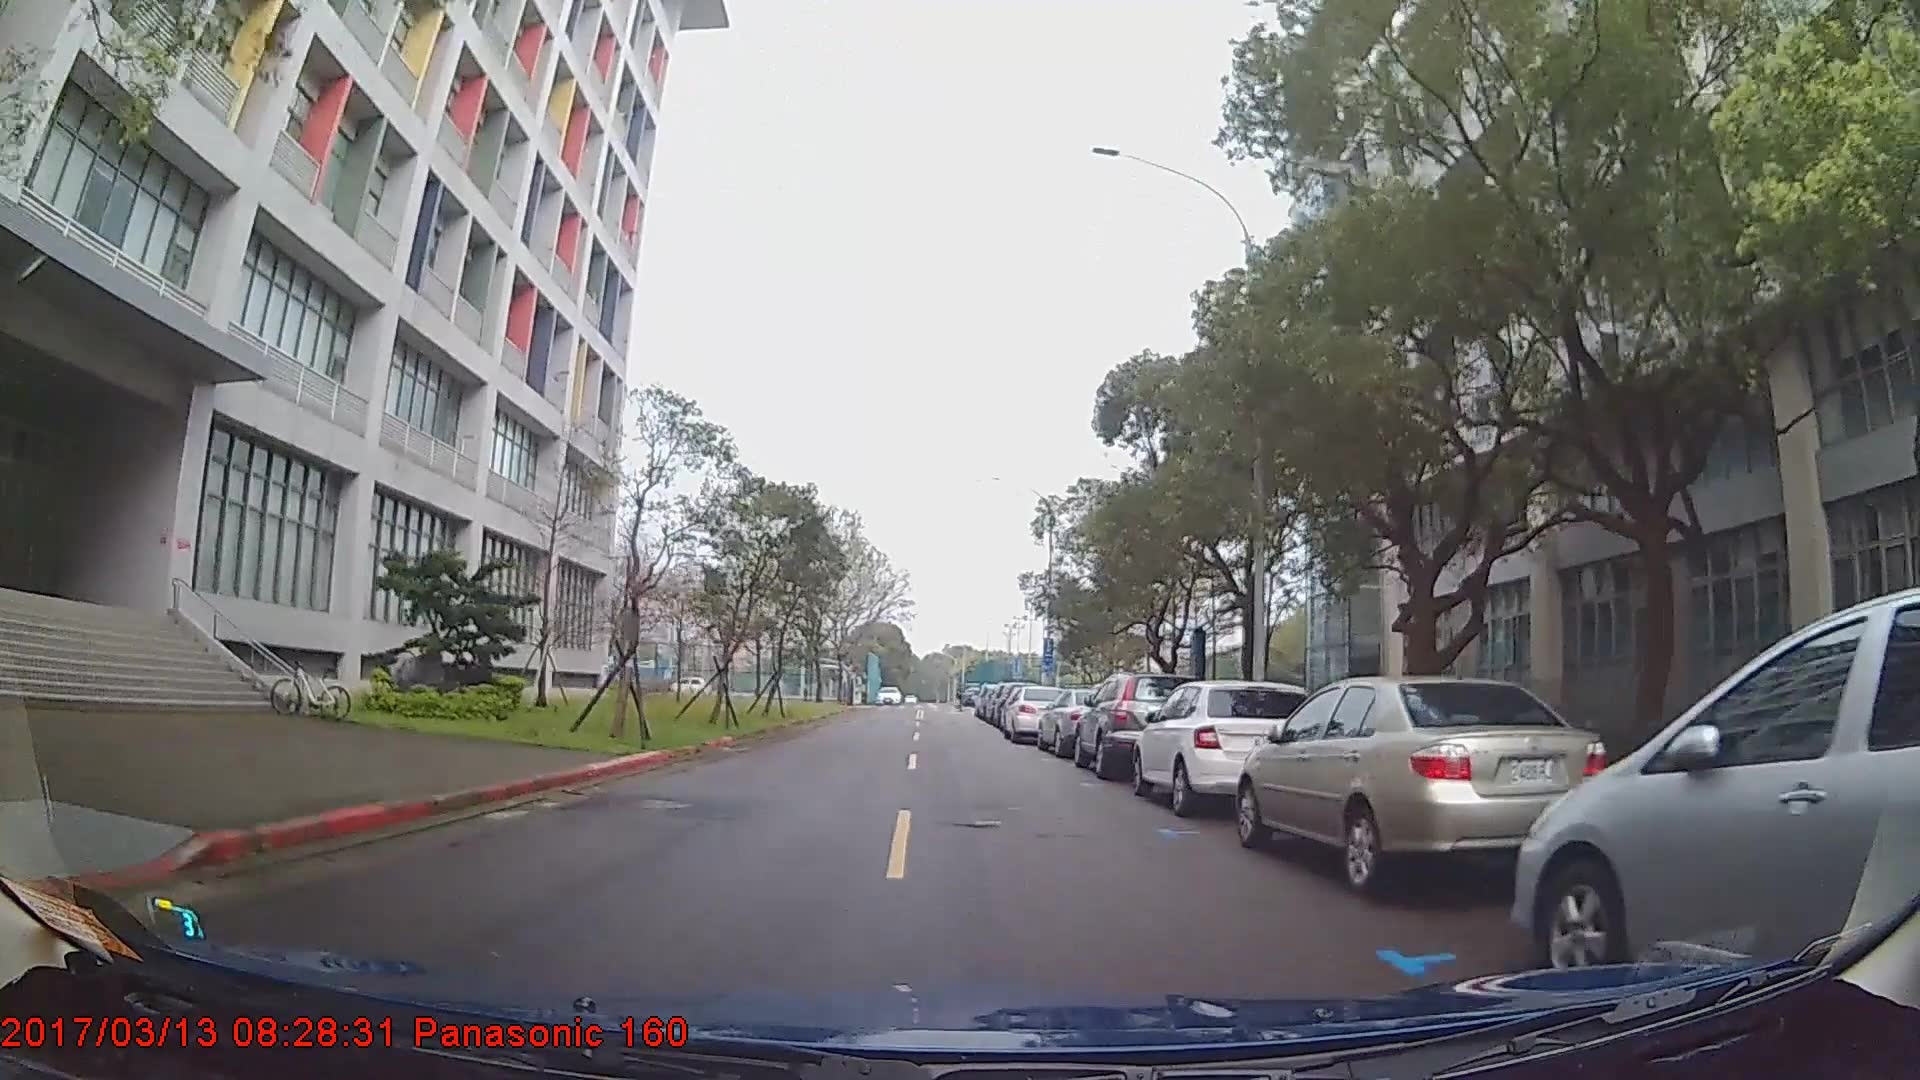vehicle: (1513, 584, 1920, 1007), (1237, 673, 1606, 894), (1133, 680, 1317, 818), (1071, 673, 1203, 781), (1035, 686, 1124, 757), (1000, 684, 1069, 744)
